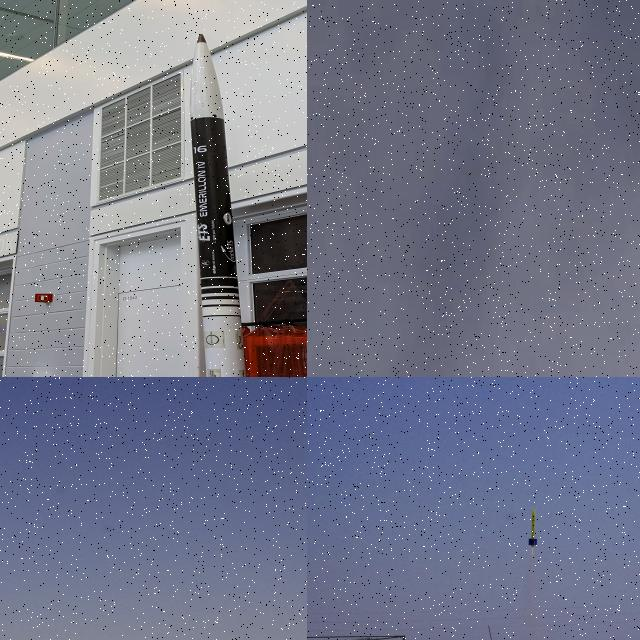Rocket: (189, 34, 247, 377), (528, 509, 538, 547)
